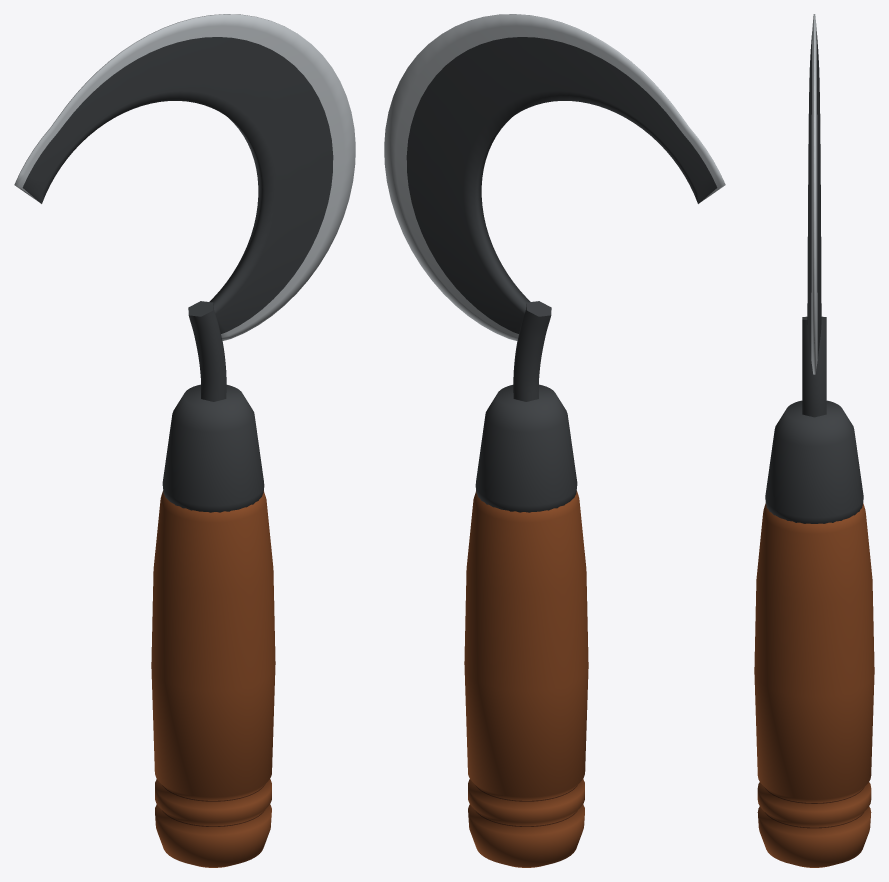
The model's file is item-21.glb.
3 views of the same model, side by side, from view 1: azimuth 30°, elevation 25°; view 2: azimuth 150°, elevation 25°; view 3: azimuth 270°, elevation 25° (orthographic). The views are drawn at different scales.
Parts seen in each view (by area): view 1: blade, handle, ferrule, neck; view 2: blade, handle, ferrule, neck; view 3: handle, ferrule, blade, neck.
Part boxes in pixels (x1,y1,x2,y2): blade: (14, 14, 355, 340); handle: (151, 490, 275, 867); ferrule: (162, 384, 264, 512); neck: (188, 301, 226, 401); blade: (384, 14, 725, 340); handle: (464, 490, 588, 867); ferrule: (475, 384, 577, 512); neck: (513, 301, 551, 401); handle: (754, 503, 874, 867); ferrule: (765, 400, 863, 523); blade: (807, 14, 821, 374); neck: (802, 316, 826, 417).
Bounding box in the file's own units: 0.1127 × 0.2658 × 0.0356.
